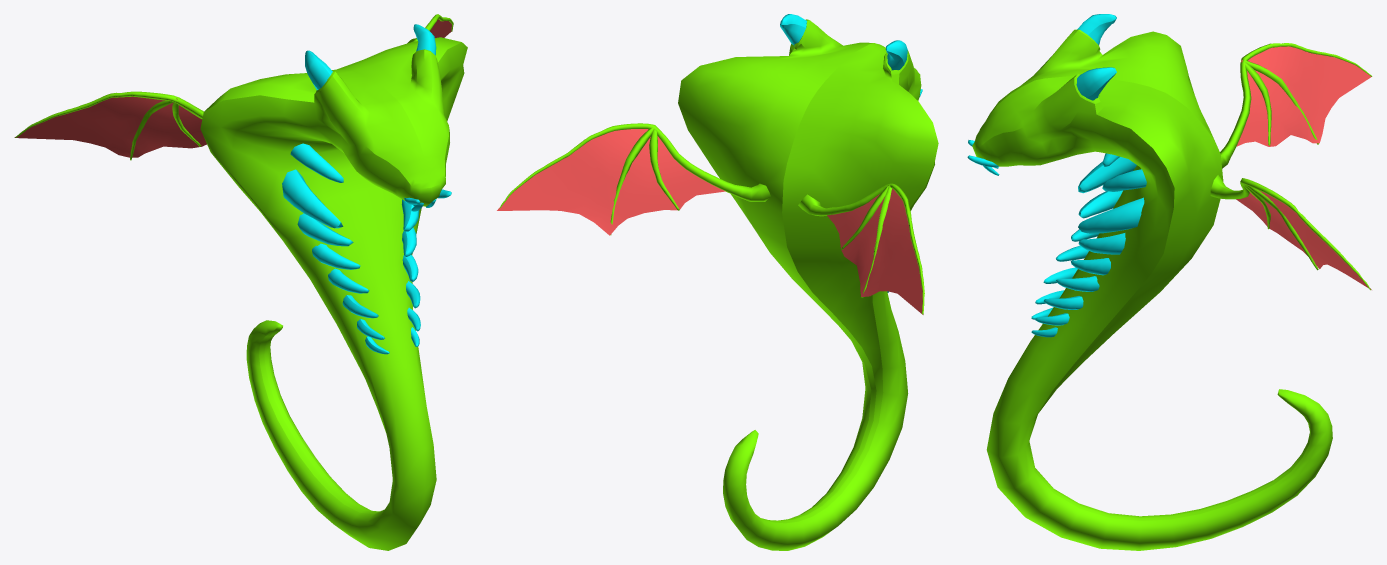
Rendered from SM_Mutant _Snake_Monster.fbx.
3 views of the same model, side by side, from view 1: azimuth 30°, elevation 25°; view 2: azimuth 150°, elevation 25°; view 3: azimuth 270°, elevation 25° (orthographic). The views are drawn at different scales.
Visible parts, largest first — view 1: SM_snake; view 2: SM_snake; view 3: SM_snake.
Boxes of the visible parts, left/top/right/bottom form: SM_snake: left=14, top=14, right=467, bottom=550; SM_snake: left=497, top=14, right=938, bottom=550; SM_snake: left=967, top=14, right=1372, bottom=550.
Bounding box in the file's own units: 141 × 156 × 113.
